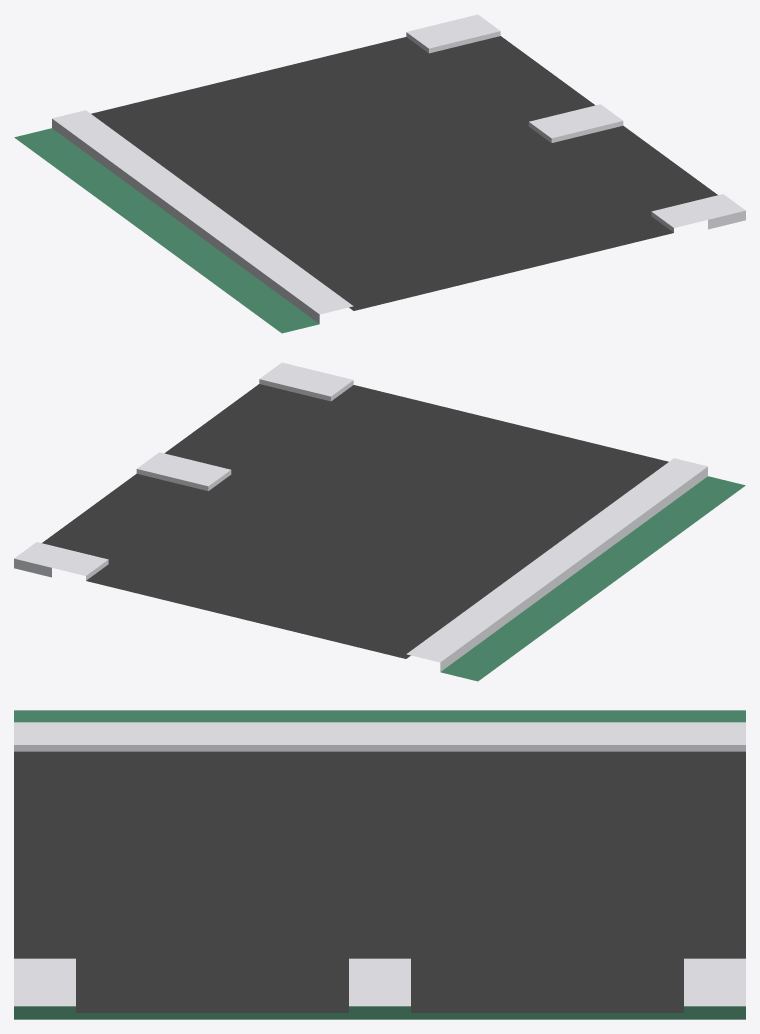
File: roadPitGarage.glb
The picture shows the model from 3 angles, top to bottom: view 1: azimuth 30°, elevation 25°; view 2: azimuth 150°, elevation 25°; view 3: azimuth 270°, elevation 25°; orthographic projection. The views are drawn at different scales.
Parts seen in each view (by area): view 1: roadPitGarage(Clone); view 2: roadPitGarage(Clone); view 3: roadPitGarage(Clone).
Boxes of the visible parts, <box> form: roadPitGarage(Clone): <box>14,14,745,333</box>; roadPitGarage(Clone): <box>14,362,745,681</box>; roadPitGarage(Clone): <box>14,710,745,1019</box>.
Bounding box in the file's own units: 1 × 0.02 × 1.
